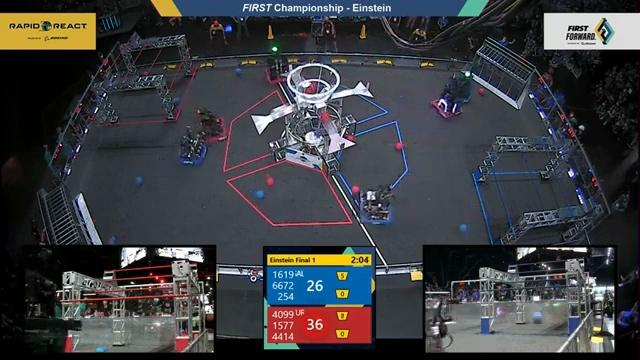robot: (351, 180, 399, 231), (187, 103, 231, 148), (169, 133, 210, 173), (259, 44, 297, 85), (429, 84, 465, 124), (444, 67, 477, 107)
